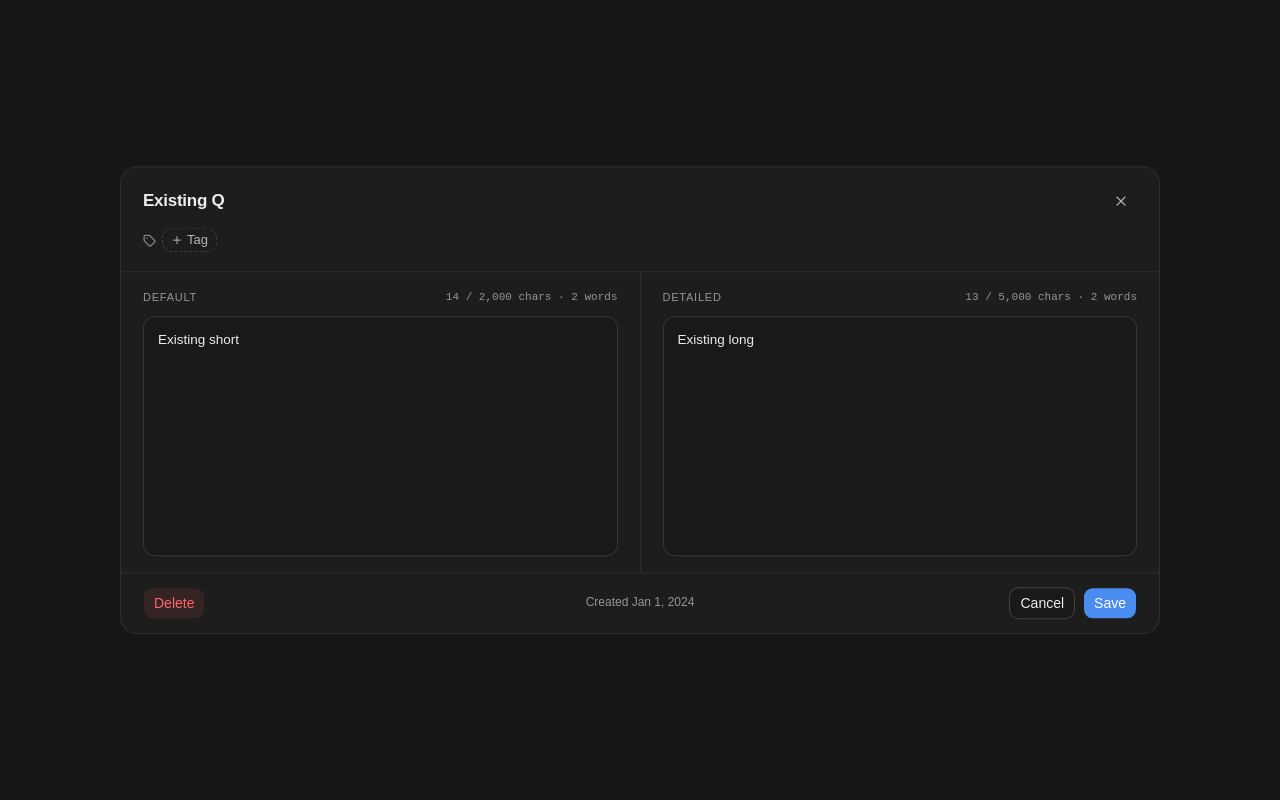
EditAnswerModal › opens a confirm AlertDialog when Delete is clicked without deleting yet
The image size is (1280, 800).
Step 1. Click the button "Delete" → (174, 603), box [143,587,206,619]
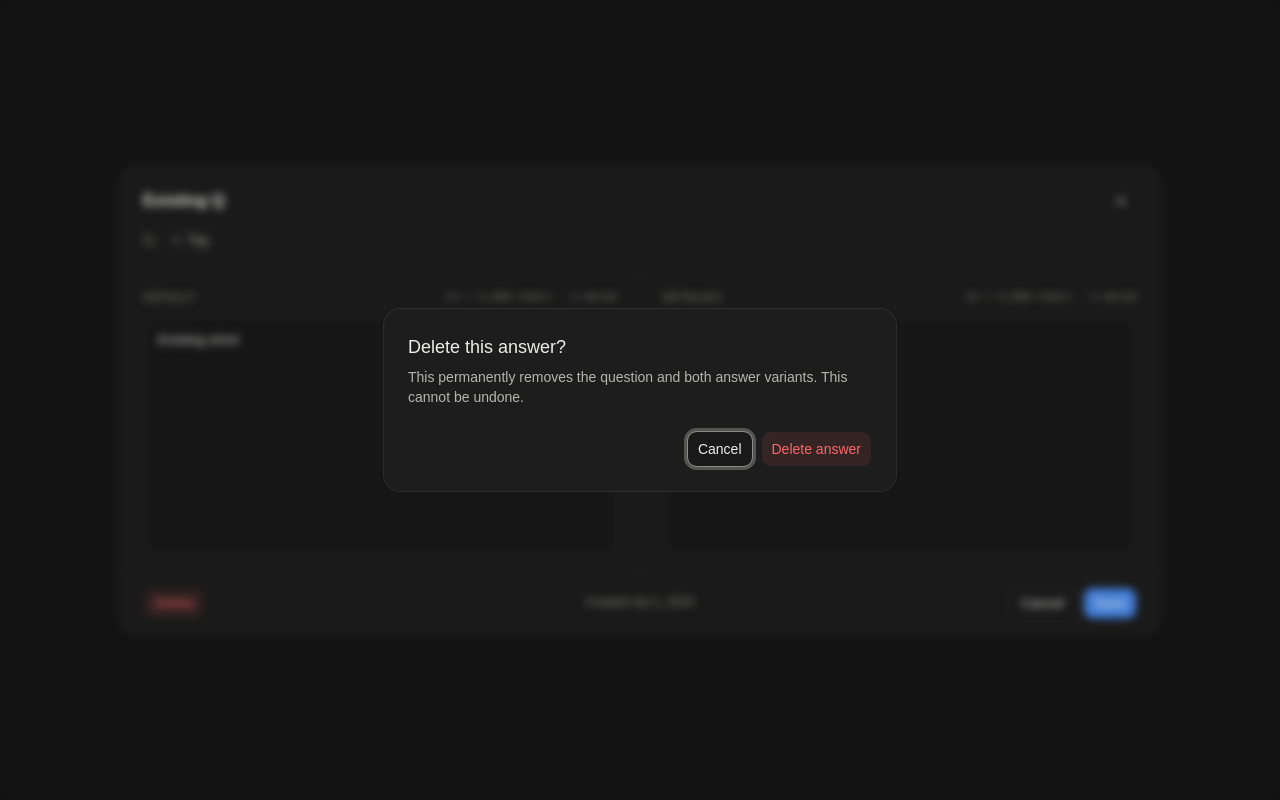
Expected: the heading "Delete this answer?" is shown, [408,333,566,361]
